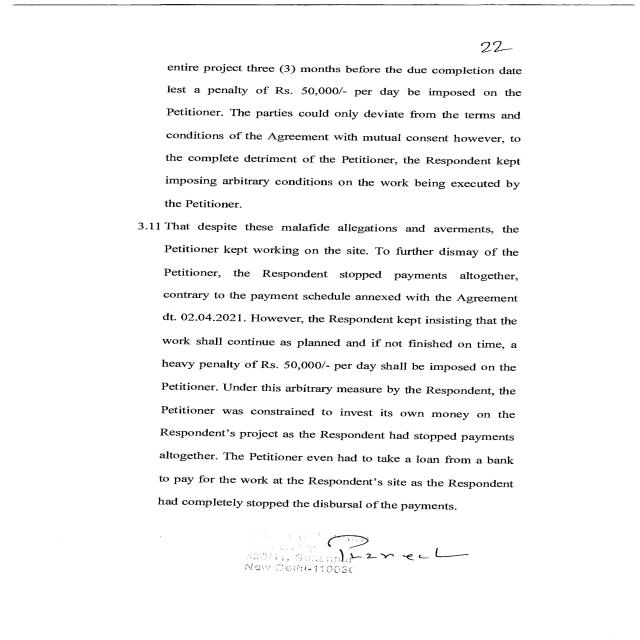page-number: (372, 0, 640, 64)
